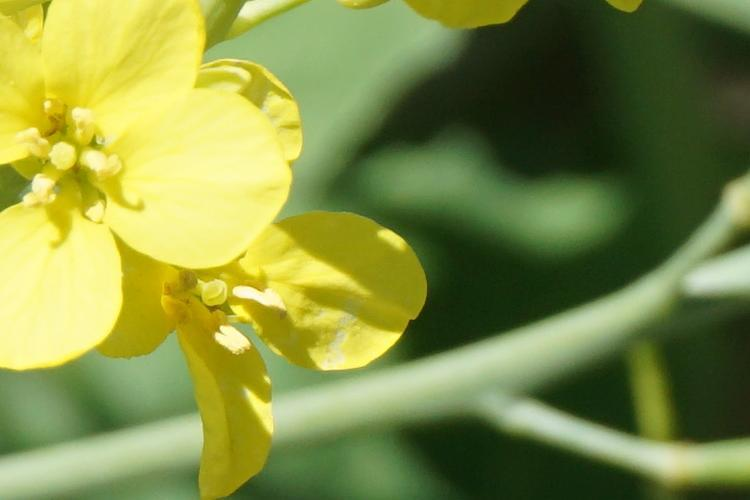yellow: (7, 11, 284, 346), (104, 219, 413, 483)
